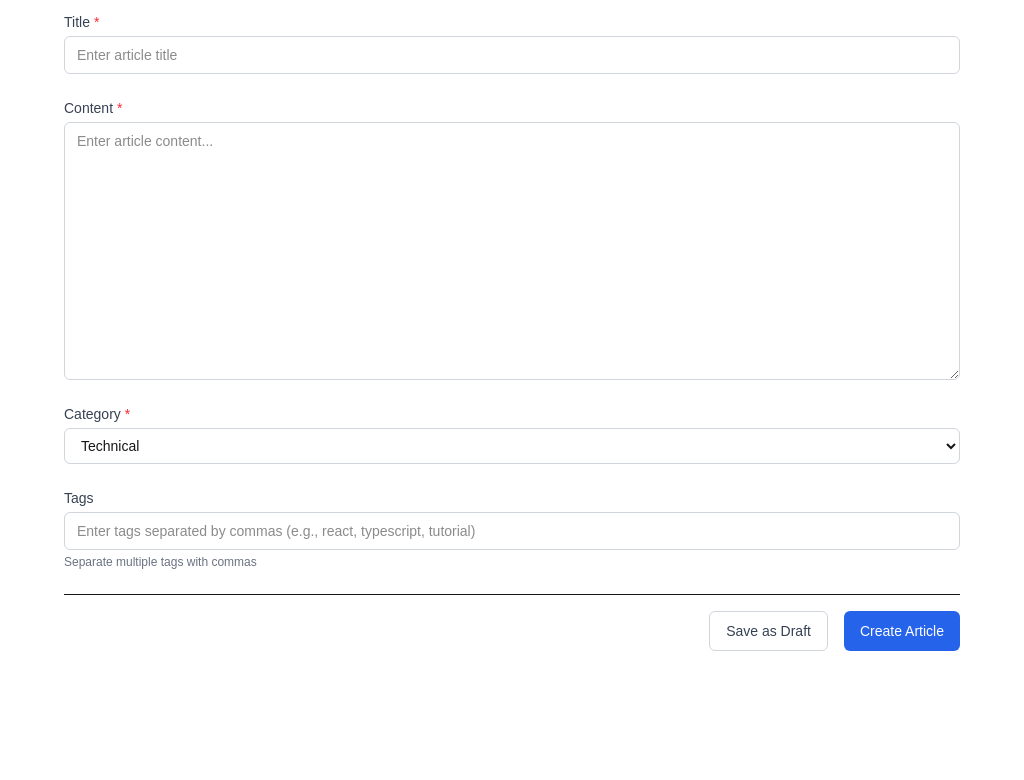
Scenario: NewCreation › validates required fields
Note: Try to submit without filling required fields
Click the button "Create Article" at (902, 631), box [844,611,960,651]
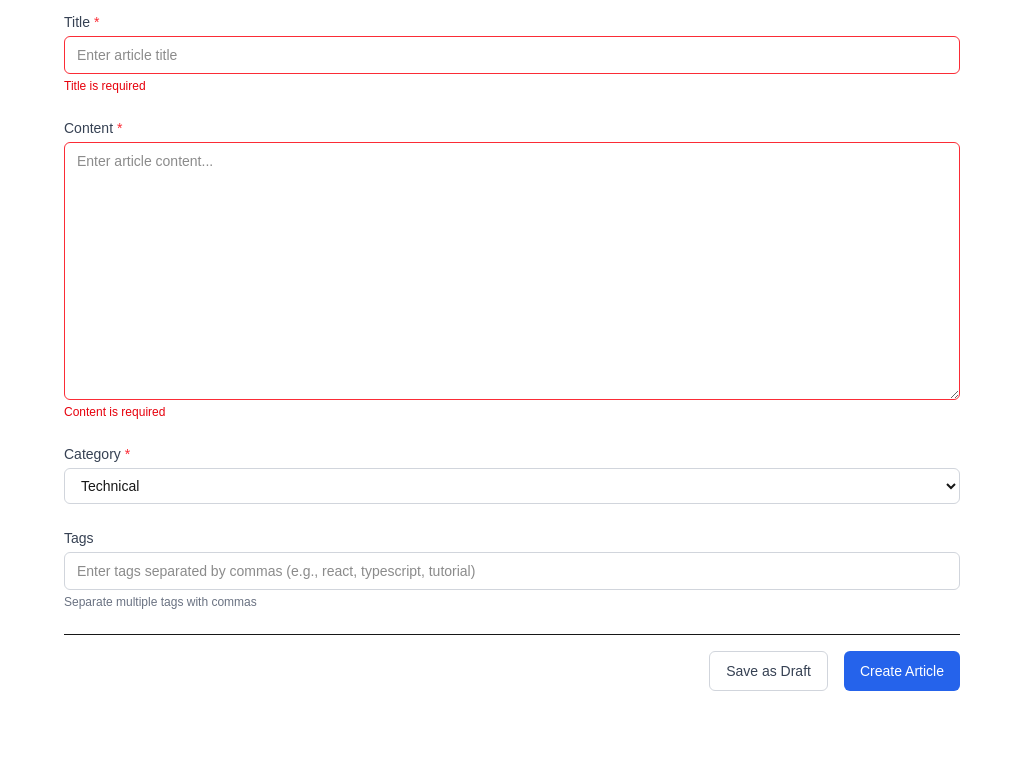
Expected: the text "Title is required" is shown, [64,79,146,93]
Expected: the text "Content is required" is shown, [64,405,165,419]
